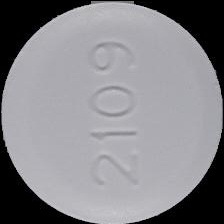68788-1738: (0, 0, 224, 224)
